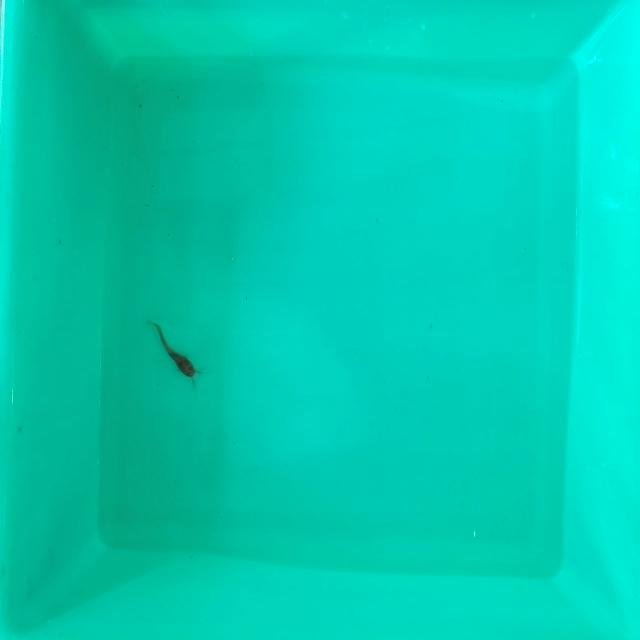lele: (152, 318, 197, 383)
